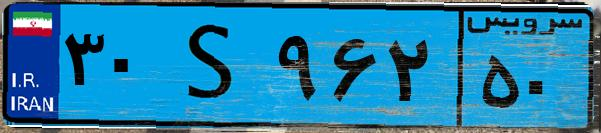0: (525, 38, 570, 115), (110, 28, 158, 98)
2: (385, 28, 445, 110)
3: (57, 26, 110, 100)
5: (475, 38, 525, 113)
6: (330, 28, 385, 110)
9: (270, 28, 330, 110)
S: (158, 12, 270, 120)
